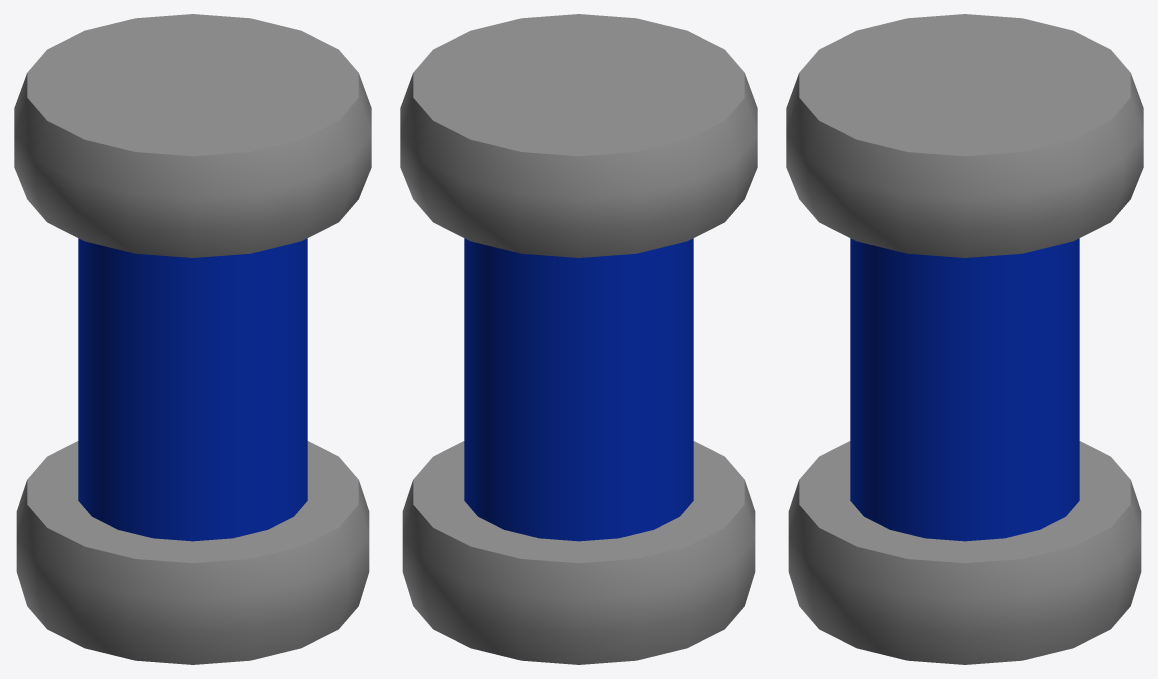
File: ExplosiveCanister.fbx
3 views of the same model, side by side, from view 1: azimuth 30°, elevation 25°; view 2: azimuth 150°, elevation 25°; view 3: azimuth 270°, elevation 25° (orthographic).
Parts seen in each view (by area): view 1: ExplosiveCanister; view 2: ExplosiveCanister; view 3: ExplosiveCanister.
Boxes of the visible parts, left/top/right/bottom form: ExplosiveCanister: left=14, top=14, right=371, bottom=664; ExplosiveCanister: left=400, top=14, right=757, bottom=664; ExplosiveCanister: left=786, top=14, right=1143, bottom=664.
Size of the model in its own units: 0.6464 by 1 by 0.6366.
